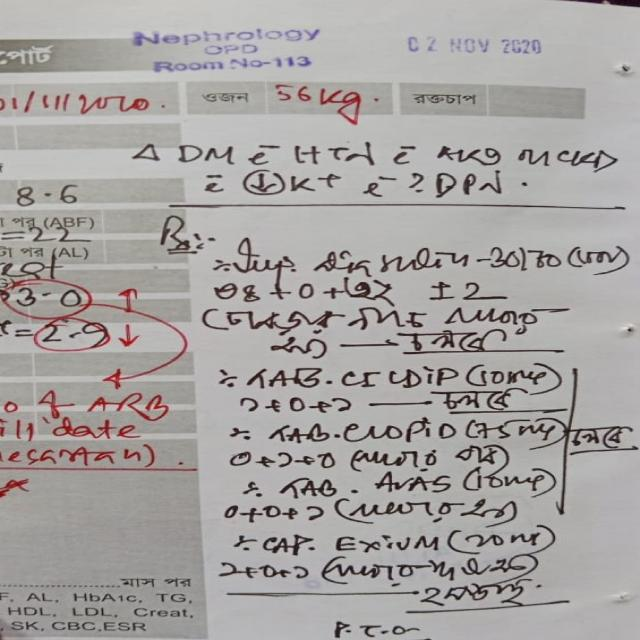Avas: (373, 467, 456, 502)
Cildip: (335, 364, 462, 396)
Clopid: (345, 419, 462, 450)
Exium: (333, 533, 450, 558)
